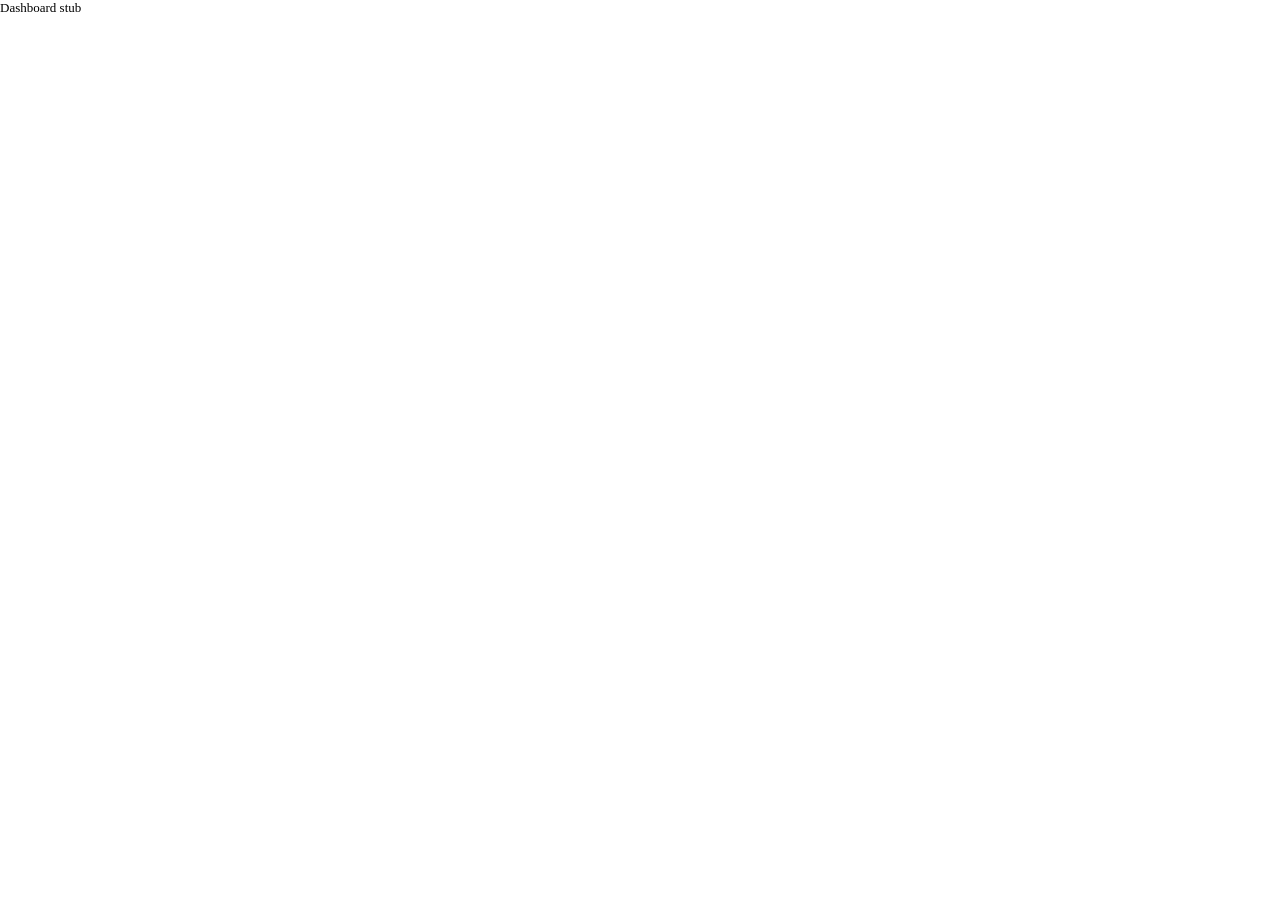
Scenario: CommandPalette › shows a Bins group for distinct bin labels matching the query and navigates via a bin: filter
The image size is (1280, 900).
Press k
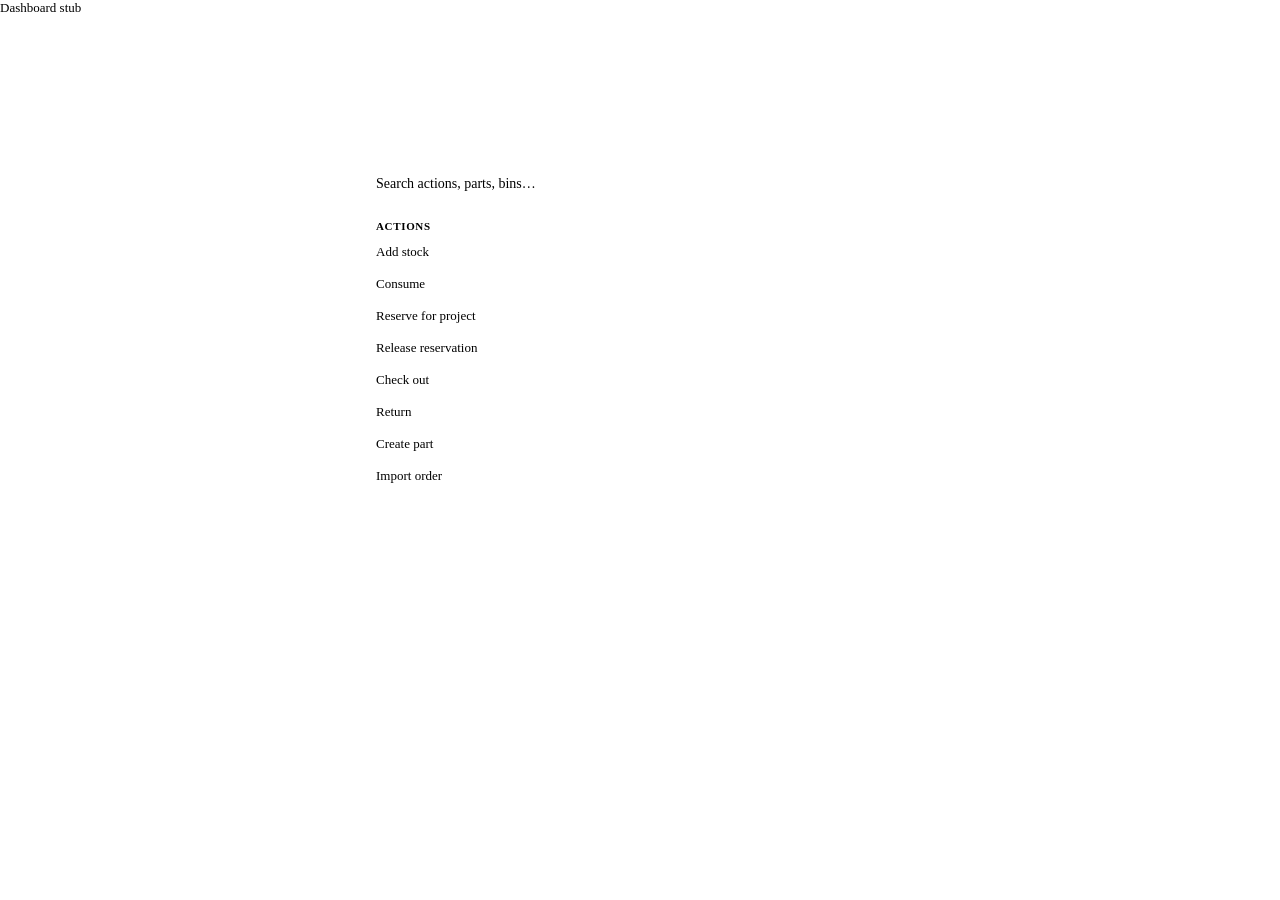
Type "a12" into the dropdown at [640, 184], box [360,162,920,206]
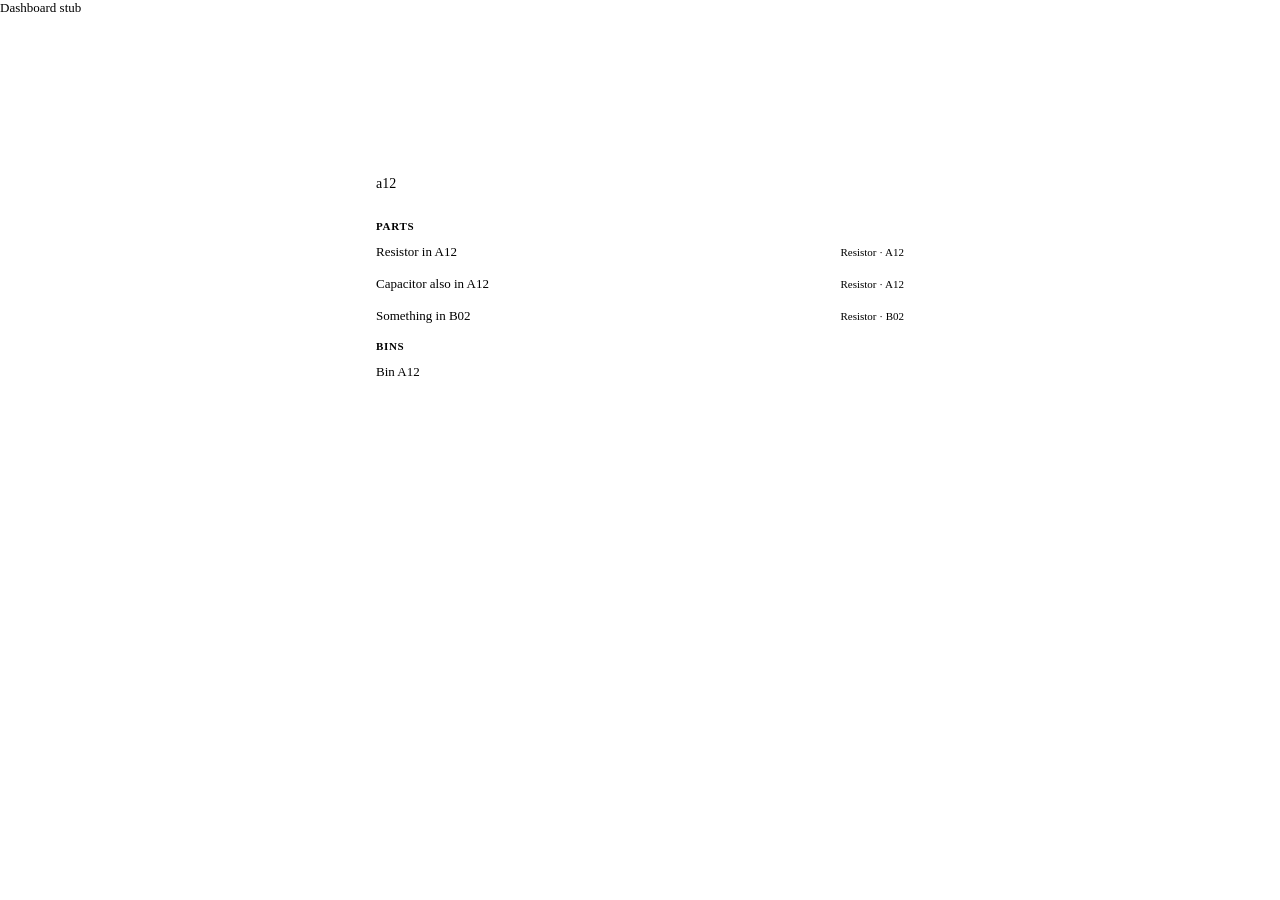
Check: the option "Bin A12" is shown
Click the option "Bin A12" at [398, 372], box [376,364,420,379]
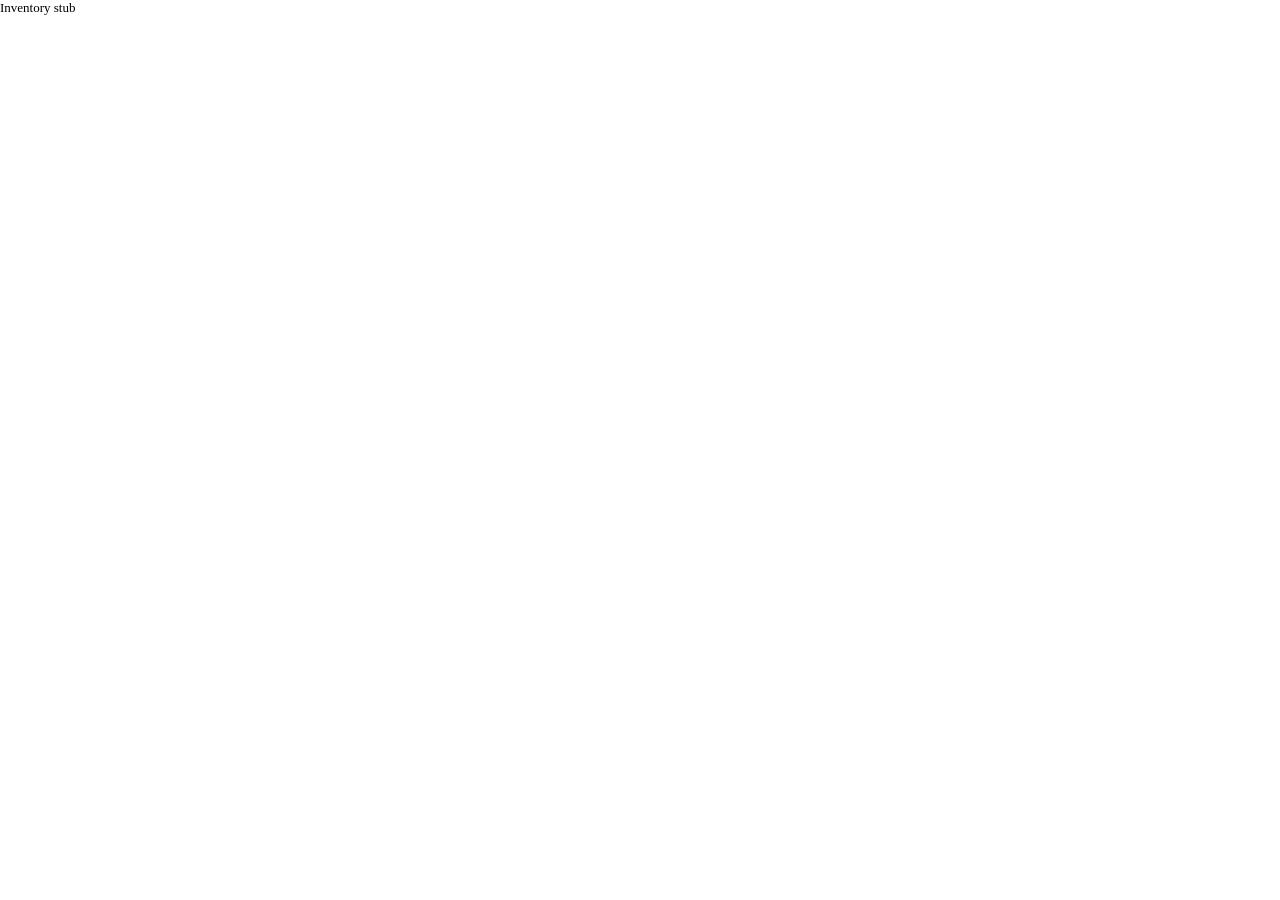
Check: the text "Inventory stub" is shown, box [0,0,76,15]
